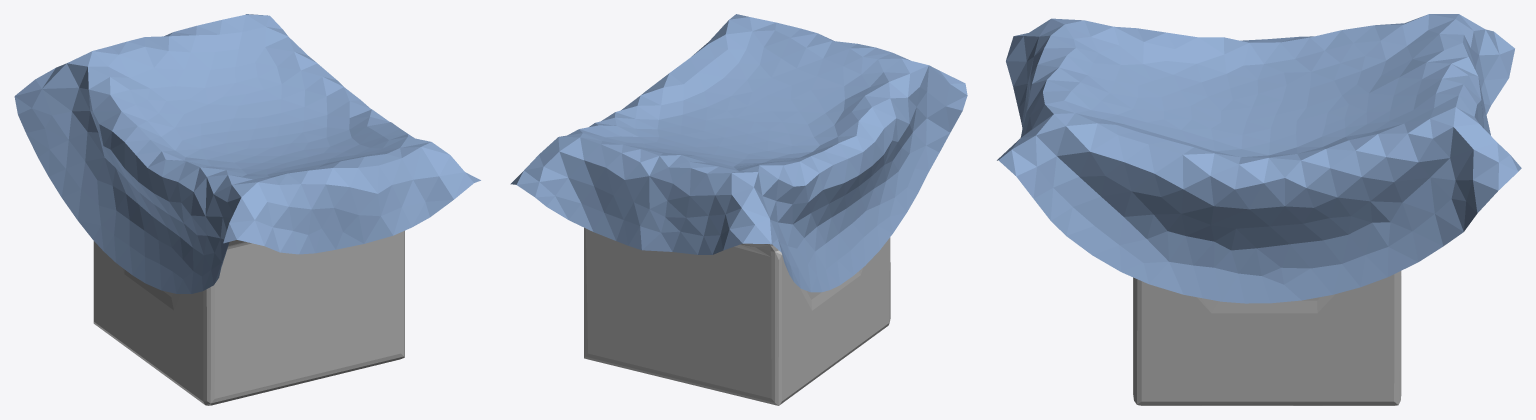
Rendered from level_0.glb.
The picture shows the model from 3 angles, left to right: view 1: azimuth 30°, elevation 25°; view 2: azimuth 150°, elevation 25°; view 3: azimuth 270°, elevation 25°; orthographic projection. The views are drawn at different scales.
Parts seen in each view (by area): view 1: world, object.obj; view 2: world, object.obj; view 3: world, object.obj.
Boxes of the visible parts, x1=… form: world: x1=14, y1=14, x2=480, y2=293; object.obj: x1=93, y1=230, x2=404, y2=405; world: x1=510, y1=14, x2=967, y2=292; object.obj: x1=584, y1=227, x2=890, y2=405; world: x1=997, y1=14, x2=1521, y2=303; object.obj: x1=1133, y1=271, x2=1401, y2=405.
Bounding box in the file's own units: 0.3383 × 0.3017 × 0.4955.
